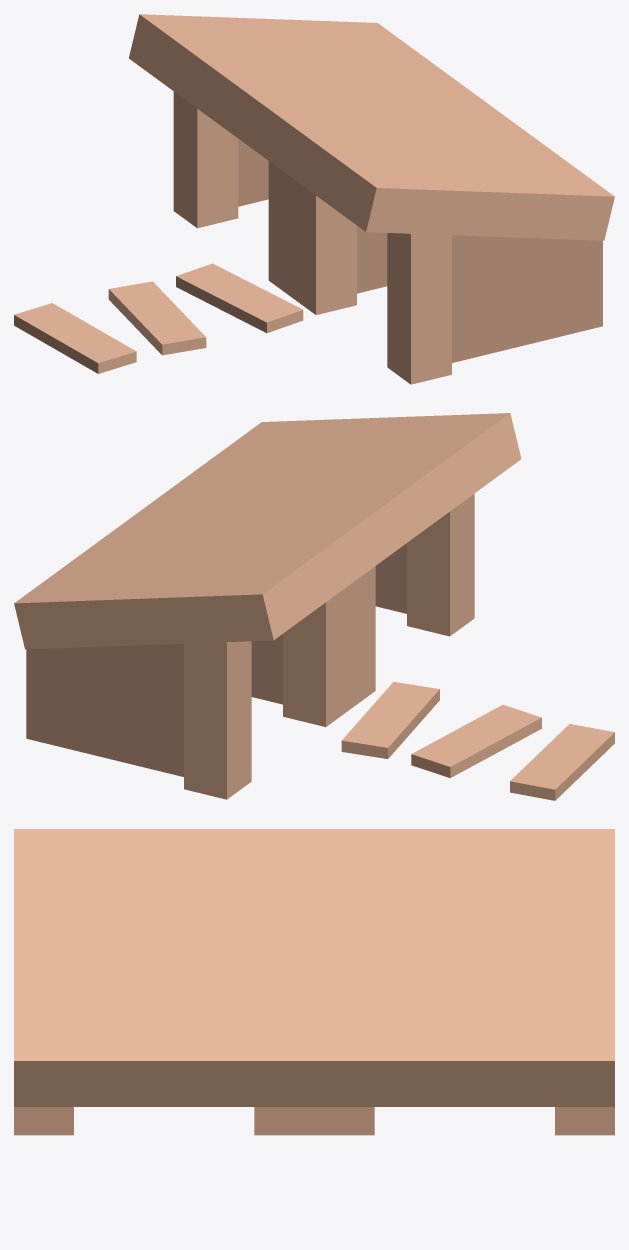
The model's file is Minelvl3.fbx.
3 views of the same model, one above another, from view 1: azimuth 30°, elevation 25°; view 2: azimuth 150°, elevation 25°; view 3: azimuth 270°, elevation 25° (orthographic). The views are drawn at different scales.
Visible parts, largest first — view 1: Mine, Mine.001, Path; view 2: Mine.001, Mine, Path; view 3: Mine, Mine.001.
Part boxes in pixels (x1,y1,x2,y2): Mine: (247, 101, 614, 384); Mine.001: (129, 14, 495, 297); Path: (14, 263, 303, 373); Mine.001: (14, 503, 397, 799); Mine: (138, 413, 521, 708); Path: (341, 682, 614, 800); Mine: (14, 829, 314, 1135); Mine.001: (314, 829, 614, 1135).
Bounding box in the file's own units: 53.65 × 23.84 × 50.
